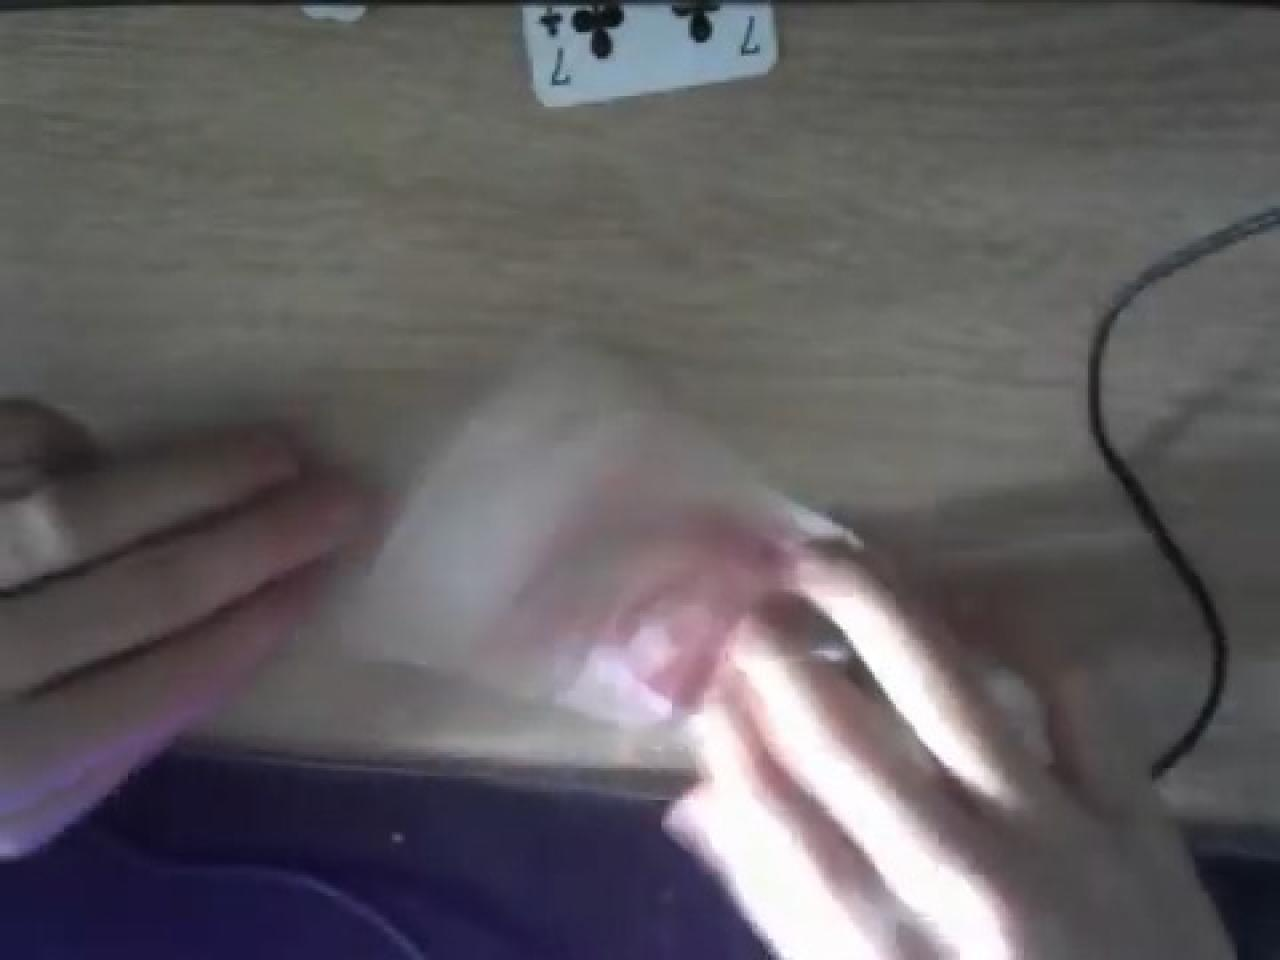5leva: (211, 339, 1232, 960)
